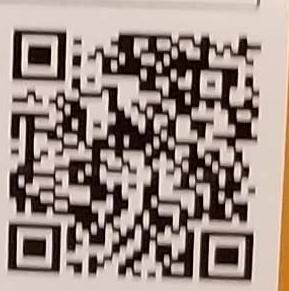qrcode: (9, 30, 263, 282)
